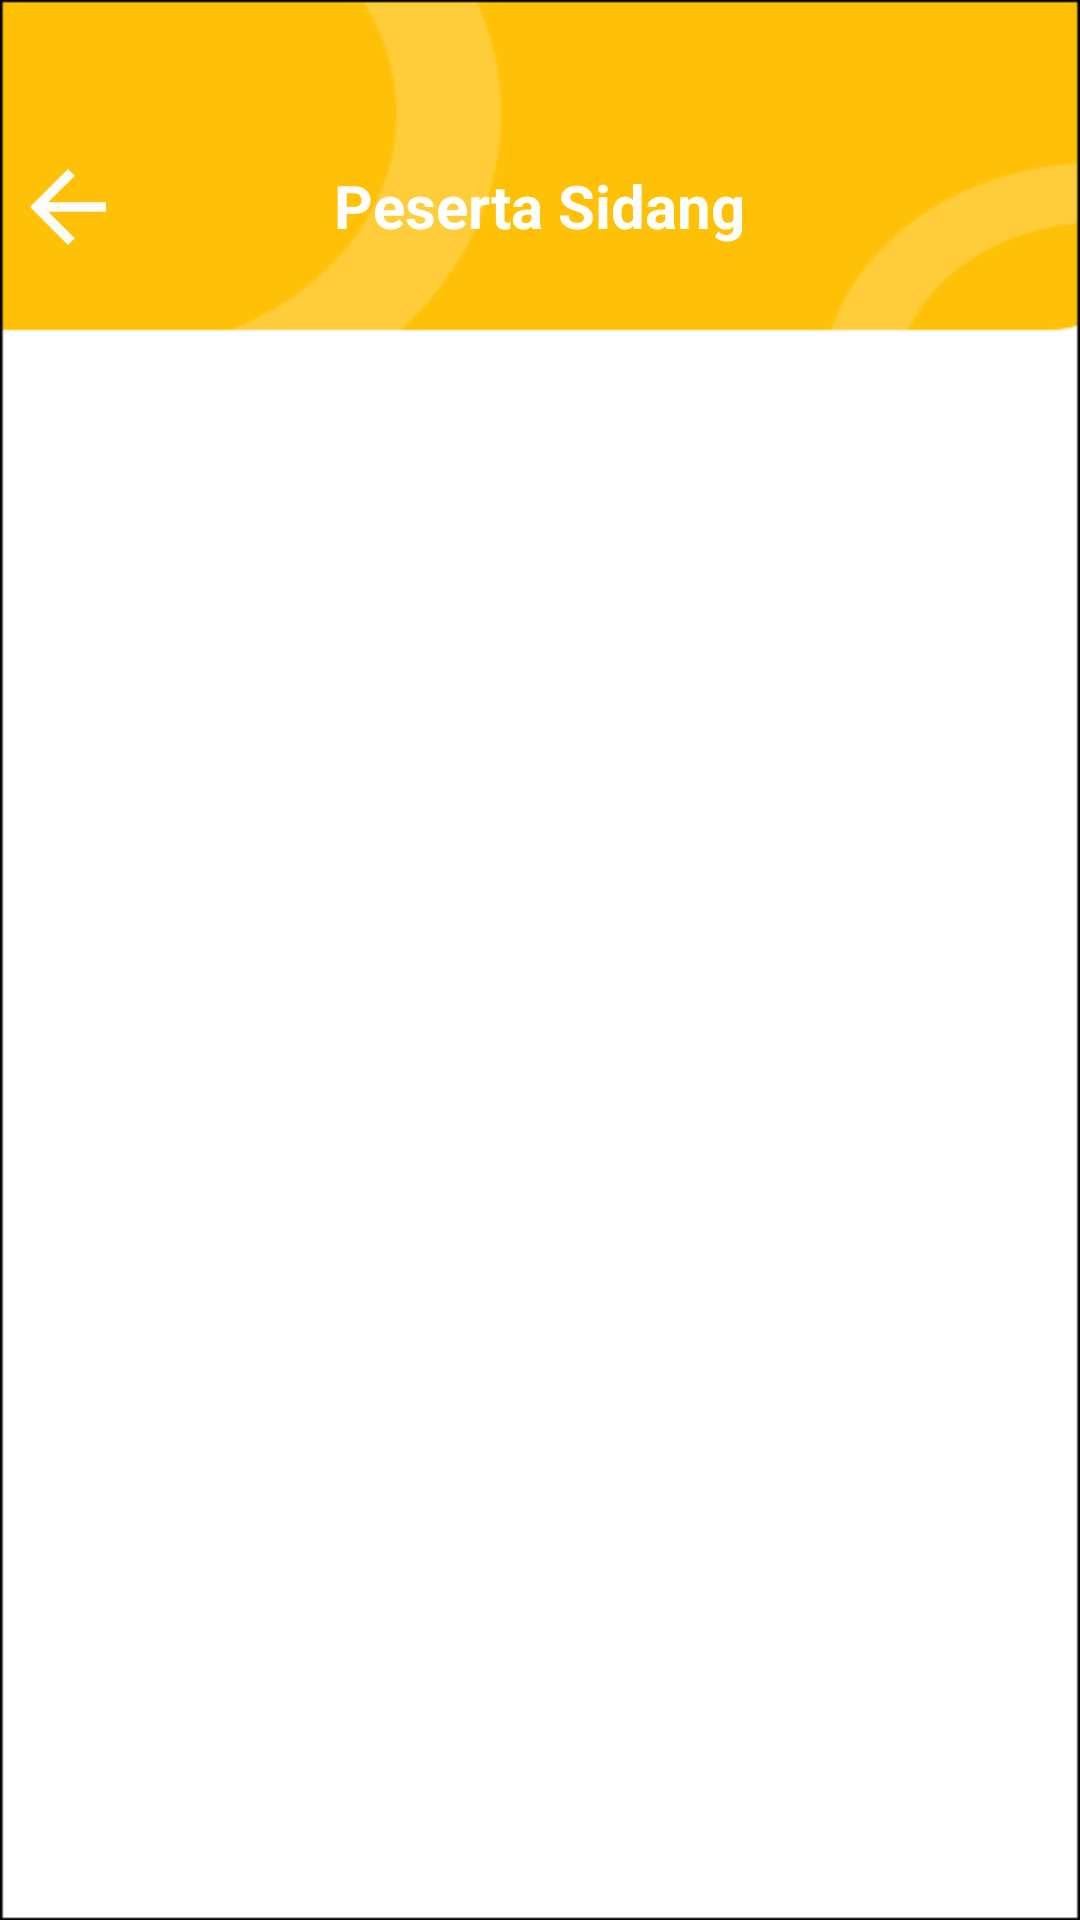

Screen size 1080w x 1920h. Icon name, then its center in pixels as (x=x, y=y):
arrow left: (x=68, y=207)
